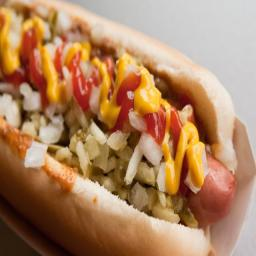hotdog: (0, 0, 234, 256)
